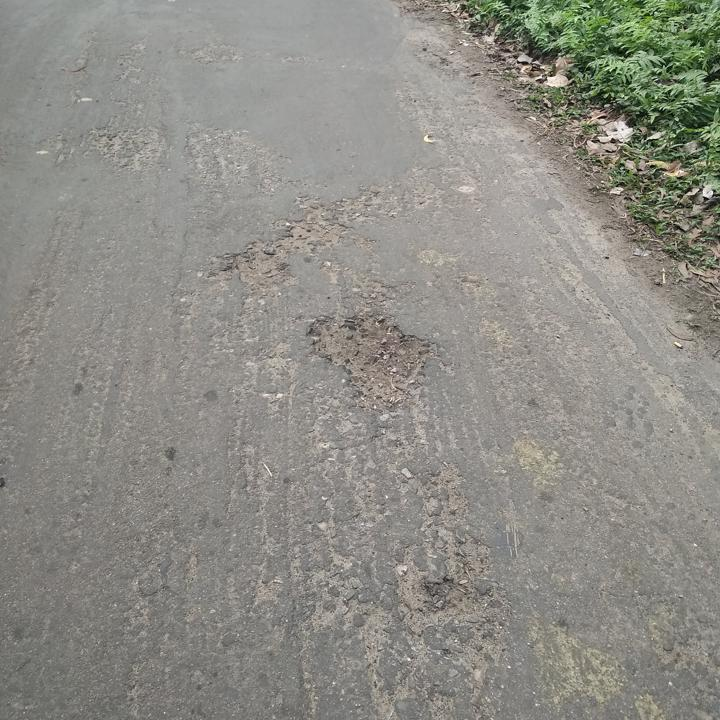pothole: (304, 304, 437, 407), (225, 202, 346, 288), (423, 577, 481, 620)
